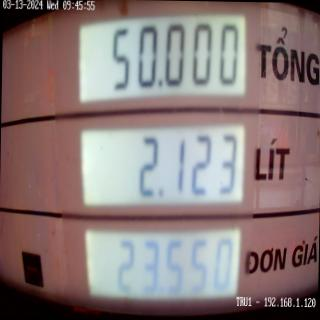screen: (64, 2, 250, 314)
